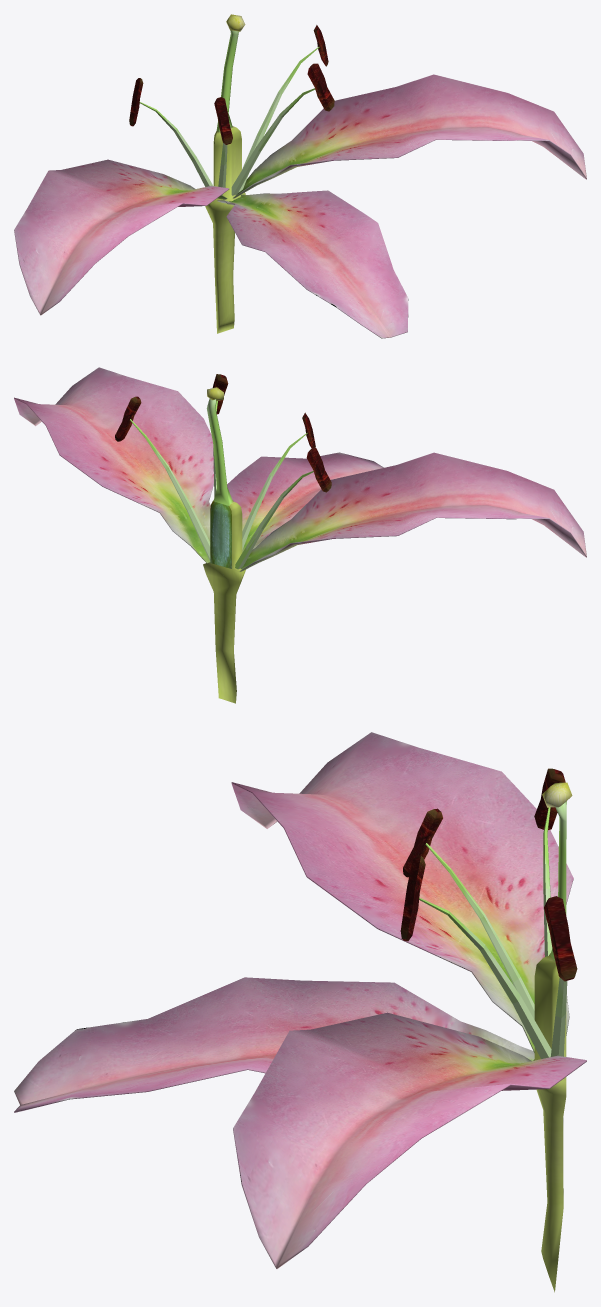
File: Lily_Full_Half.gltf
The picture shows the model from 3 angles, top to bottom: view 1: azimuth 30°, elevation 25°; view 2: azimuth 150°, elevation 25°; view 3: azimuth 270°, elevation 25°; orthographic projection. The views are drawn at different scales.
Parts seen in each view (by area): view 1: PetalB.003, PetalB.001, PetalA.001, OvaryLong, Stamen.005, Stamen.004, Stamen.001, Stamen.006; view 2: PetalB.003, PetalB.001, OvaryLong, PetalA.001, Stamen.004, Stamen.001, Stamen.006; view 3: PetalB.001, PetalB.003, PetalA.001, OvaryLong, Stamen.005, Stamen.004, Stamen.006, Stamen.001.
Part boxes in pixels (x1,y1,x2,y2): PetalB.003: (233, 74, 586, 198); PetalB.001: (14, 159, 229, 315); PetalA.001: (217, 190, 408, 338); OvaryLong: (205, 14, 245, 333); Stamen.005: (231, 63, 334, 195); Stamen.004: (238, 25, 328, 192); Stamen.001: (129, 78, 212, 186); Stamen.006: (214, 97, 232, 195); PetalB.003: (14, 367, 213, 563); PetalB.001: (223, 452, 586, 574); OvaryLong: (203, 387, 245, 703); PetalA.001: (227, 452, 383, 552); Stamen.004: (115, 396, 210, 560); Stamen.001: (235, 448, 331, 569); Stamen.006: (242, 412, 315, 549); PetalB.001: (231, 732, 573, 1052); PetalB.003: (233, 1012, 586, 1268); PetalA.001: (14, 977, 534, 1112); OvaryLong: (533, 782, 572, 1292); Stamen.005: (400, 855, 551, 1058); Stamen.004: (544, 896, 577, 1056); Stamen.006: (403, 808, 534, 1019); Stamen.001: (534, 768, 565, 956).
Size of the model in its own units: 8.11 by 4.34 by 4.38.
Materials: 7 (7 with a texture image).
